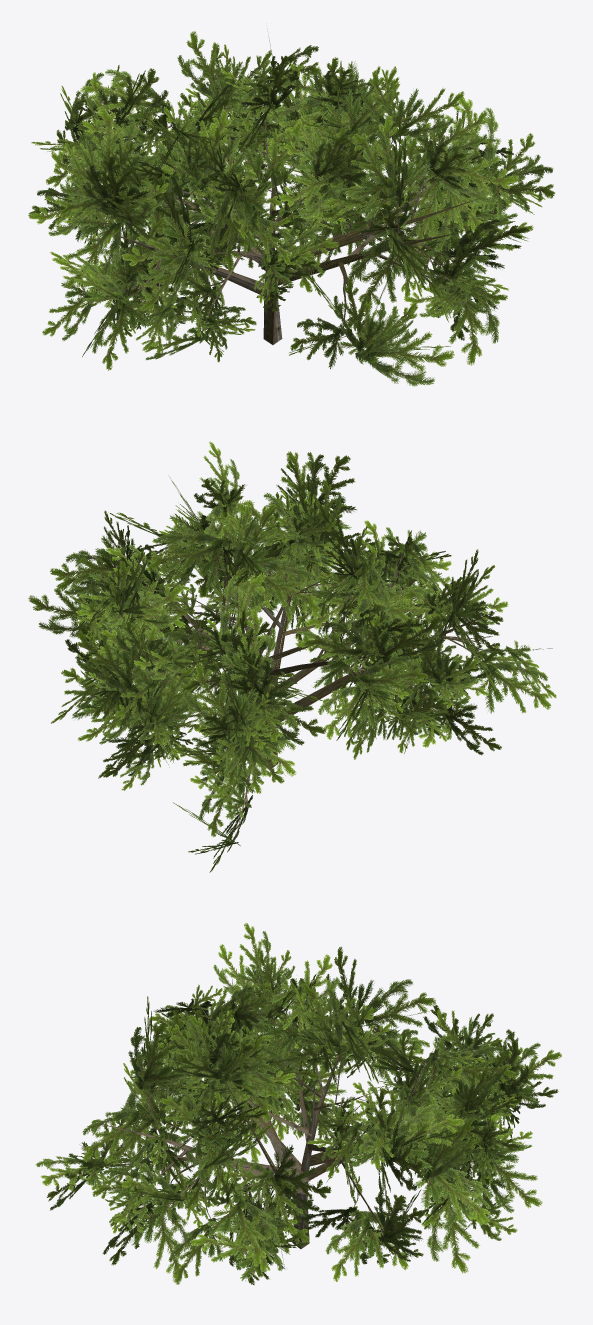
The model's file is baum_nadelbusch_1_lod1.glb.
3 renders of one model, top to bottom at view 1: azimuth 30°, elevation 25°; view 2: azimuth 150°, elevation 25°; view 3: azimuth 270°, elevation 25°, orthographic. The views are drawn at different scales.
Visible parts, largest first — view 1: Krone, Stamm; view 2: Krone, Stamm; view 3: Krone, Stamm.
Part boxes in pixels (x1,y1,x2,y2): Krone: [28, 31, 554, 386]; Stamm: [86, 25, 481, 344]; Krone: [28, 441, 556, 872]; Stamm: [98, 510, 512, 837]; Krone: [35, 923, 561, 1285]; Stamm: [95, 977, 488, 1261].
Bounding box in the file's own units: 5.24 × 3.14 × 4.96.
Materials: 2 (2 with a texture image).
